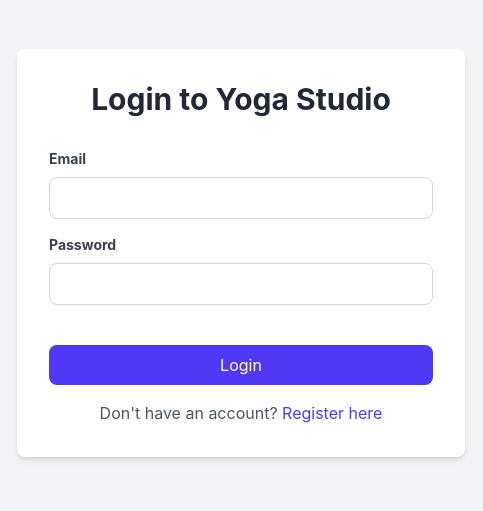
Test: Login (integration) › displays the error message returned by the API on failure
Type "victor@yoga.com" into the field.
click(241, 198); type("victor@yoga.com")  # box [49, 177, 433, 219]
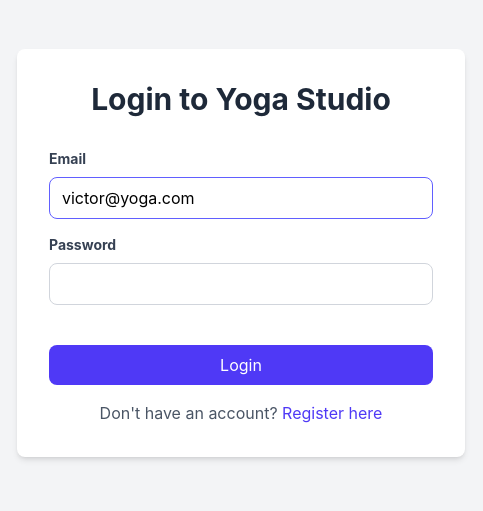
Type "Azerty#0" into the password field.
click(241, 284); type("Azerty#0")  # box [49, 263, 433, 305]
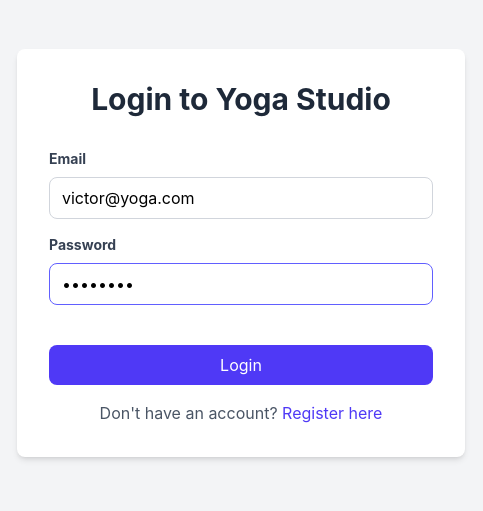
Click the button "Login".
click(241, 365)  # box [49, 345, 433, 385]
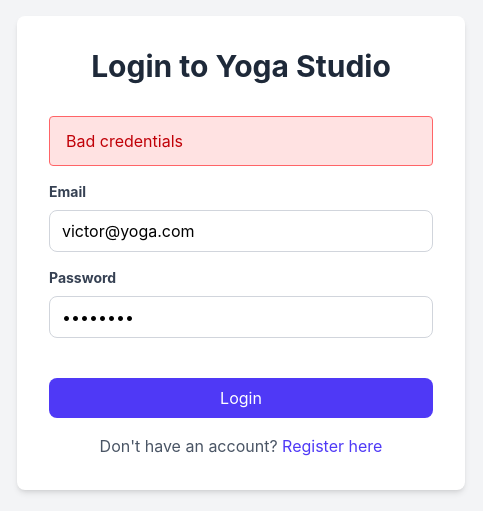
Expected: the text "Bad credentials" is shown, [49, 116, 433, 166]
